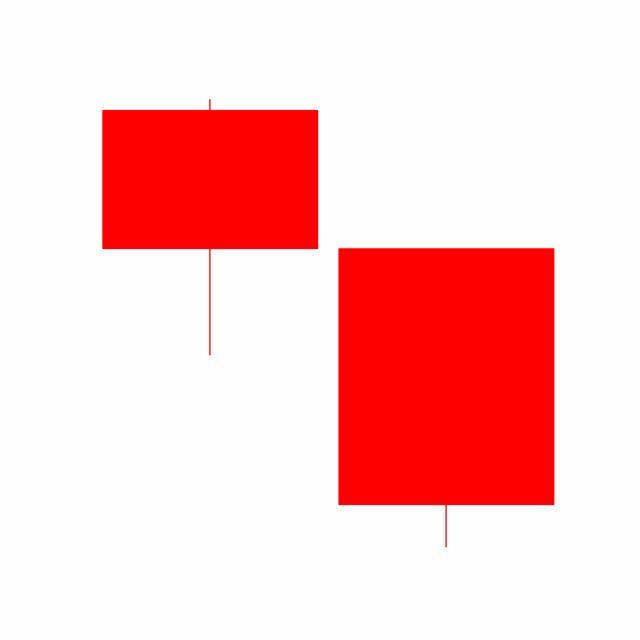Marubozu: (328, 246, 566, 552)
